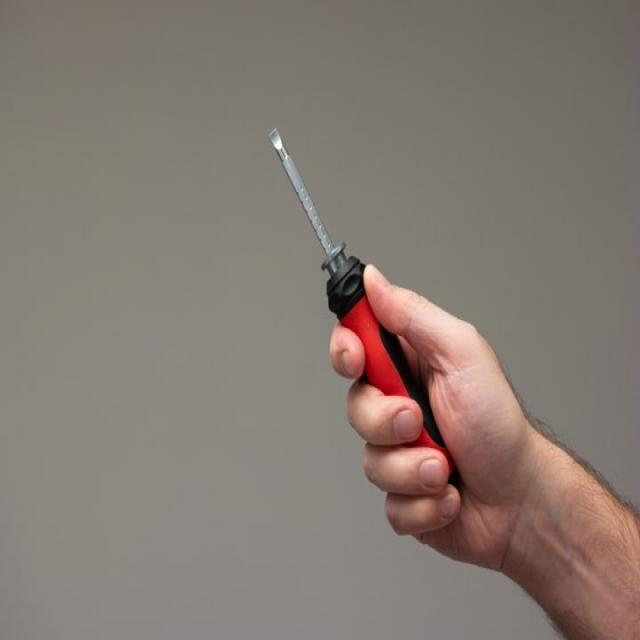screwdriver: (268, 124, 458, 492)
